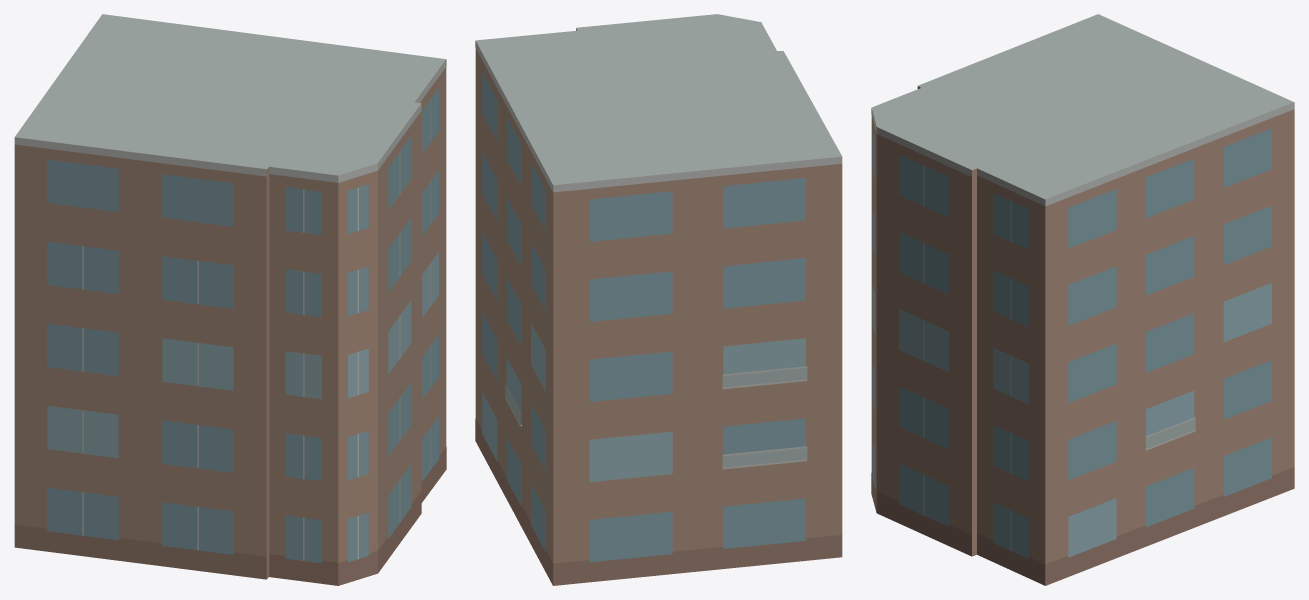
The model's file is survey-upis-32993085.glb.
3 renders of one model, left to right at view 1: azimuth 30°, elevation 25°; view 2: azimuth 150°, elevation 25°; view 3: azimuth 270°, elevation 25°, orthographic. The views are drawn at different scales.
Parts seen in each view (by area): view 1: survey-upis-32993085.tmp; view 2: survey-upis-32993085.tmp; view 3: survey-upis-32993085.tmp.
Part boxes in pixels (box(x1,y1,x2,y2)): survey-upis-32993085.tmp: box(14, 14, 446, 585); survey-upis-32993085.tmp: box(475, 14, 842, 585); survey-upis-32993085.tmp: box(871, 14, 1294, 585).
Bounding box in the file's own units: 14.12 × 13.7 × 13.6.
